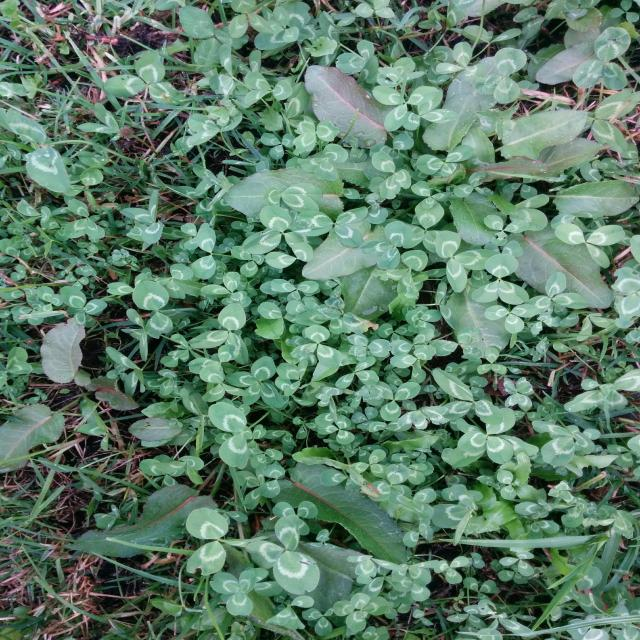Four Leaf Clover: (224, 356, 285, 408)
